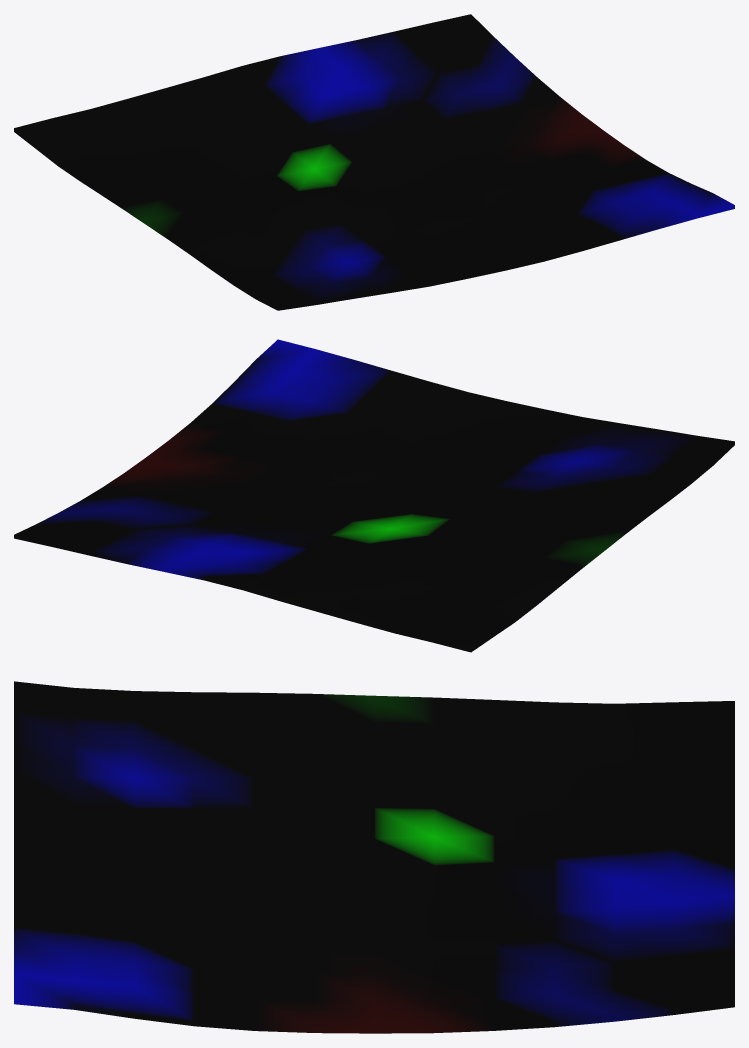
Rendered from coast_0_2.glb.
3 renders of one model, top to bottom at view 1: azimuth 30°, elevation 25°; view 2: azimuth 150°, elevation 25°; view 3: azimuth 270°, elevation 25°, orthographic. The views are drawn at different scales.
Parts seen in each view (by area): view 1: terrain; view 2: terrain; view 3: terrain.
Boxes of the visible parts, x1,y1,x2,y2 form: terrain: (14,14,734,310); terrain: (14,339,734,652); terrain: (14,681,734,1033).
Size of the model in its own units: 192 by 13.98 by 192.
